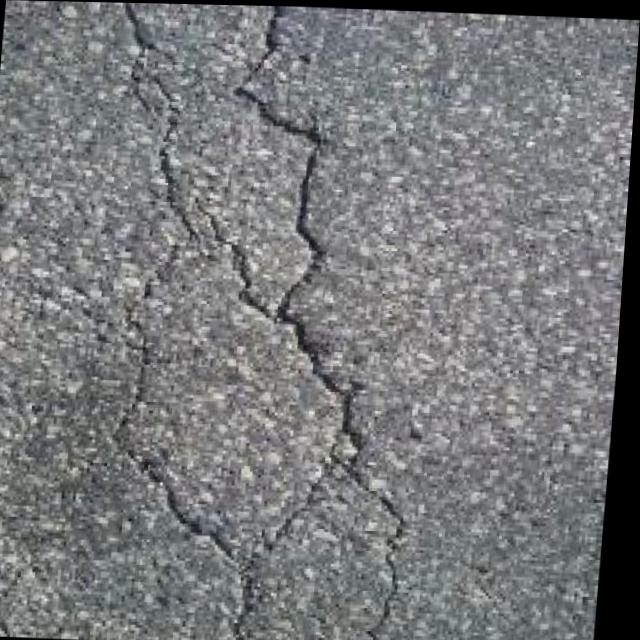Crack: (56, 2, 435, 640)
